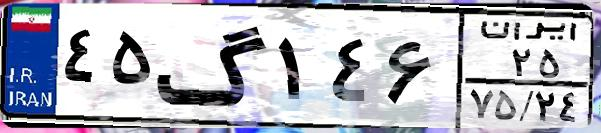1: (270, 28, 330, 110)
2: (508, 27, 537, 80), (535, 70, 560, 125)
4: (330, 28, 385, 110), (57, 26, 110, 100), (560, 70, 590, 125)
5: (110, 28, 156, 98), (537, 27, 568, 80), (495, 70, 520, 125)
6: (385, 28, 445, 110)
7: (470, 70, 495, 125)
گ: (156, 12, 270, 120)
